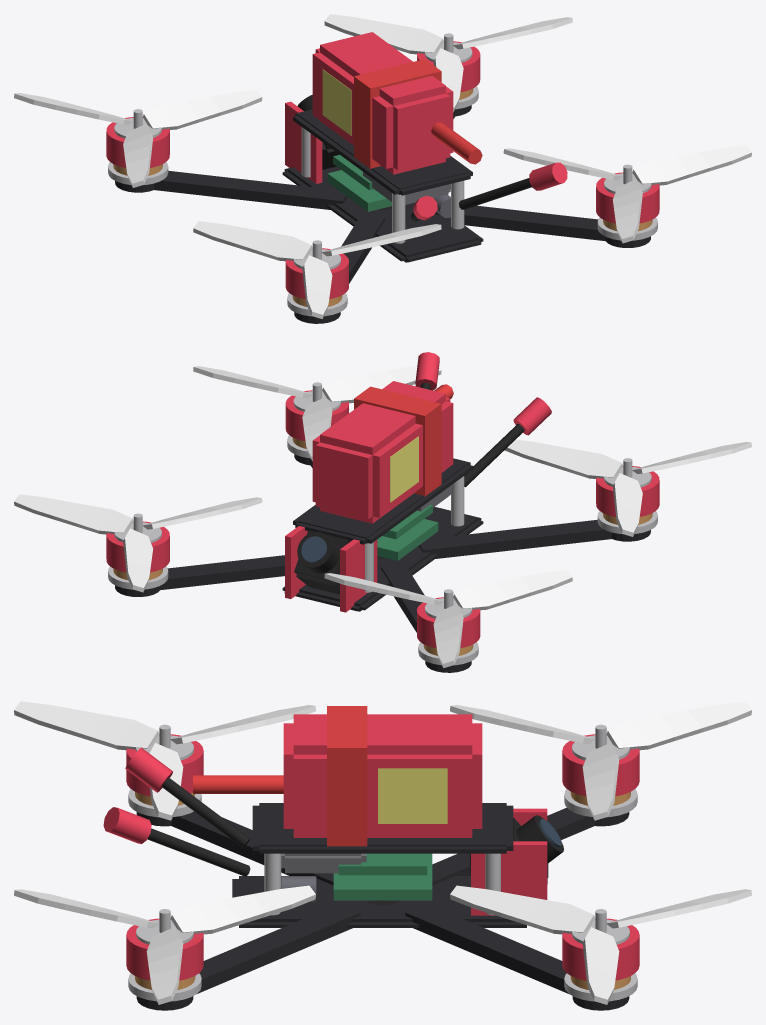
File: racer4.glb
The picture shows the model from 3 angles, top to bottom: view 1: azimuth 30°, elevation 25°; view 2: azimuth 150°, elevation 25°; view 3: azimuth 270°, elevation 25°; orthographic projection. The views are drawn at different scales.
Parts seen in each view (by area): view 1: body, prop_FL, prop_RL, prop_RR, prop_FR, cam_mount; view 2: body, prop_FR, prop_FL, prop_RL, prop_RR, cam_mount, fpv_cam; view 3: body, prop_FL, prop_FR, prop_RR, prop_RL, cam_mount, fpv_cam.
Part boxes in pixels (bbox=[...]): body: bbox=[106, 32, 659, 323]; prop_FL: bbox=[14, 90, 391, 209]; prop_RL: bbox=[193, 221, 441, 319]; prop_RR: bbox=[503, 145, 751, 243]; prop_FR: bbox=[324, 14, 572, 112]; cam_mount: bbox=[285, 101, 322, 183]; body: bbox=[106, 352, 659, 672]; prop_FR: bbox=[14, 494, 262, 592]; prop_FL: bbox=[324, 556, 572, 668]; prop_RL: bbox=[377, 439, 751, 558]; prop_RR: bbox=[193, 365, 441, 461]; cam_mount: bbox=[285, 526, 377, 612]; fpv_cam: bbox=[294, 530, 350, 594]; body: bbox=[103, 706, 639, 1010]; prop_FL: bbox=[366, 701, 751, 905]; prop_FR: bbox=[372, 885, 751, 1004]; prop_RR: bbox=[14, 885, 315, 1004]; prop_RL: bbox=[14, 701, 367, 901]; cam_mount: bbox=[471, 808, 547, 915]; fpv_cam: bbox=[470, 815, 563, 883].
Size of the model in its own units: 0.208 by 0.0621 by 0.2201.
